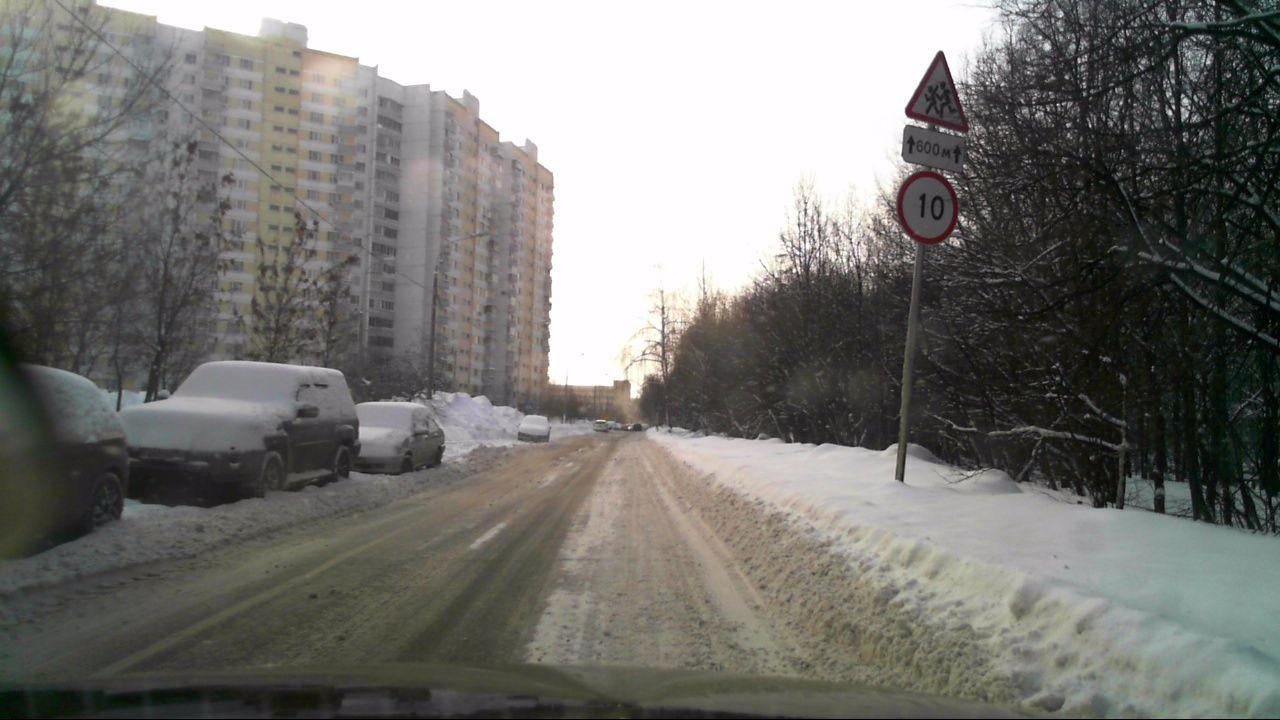1_23: (901, 51, 973, 129)
3_24: (896, 168, 962, 250)
8_2_1: (894, 123, 967, 170)
